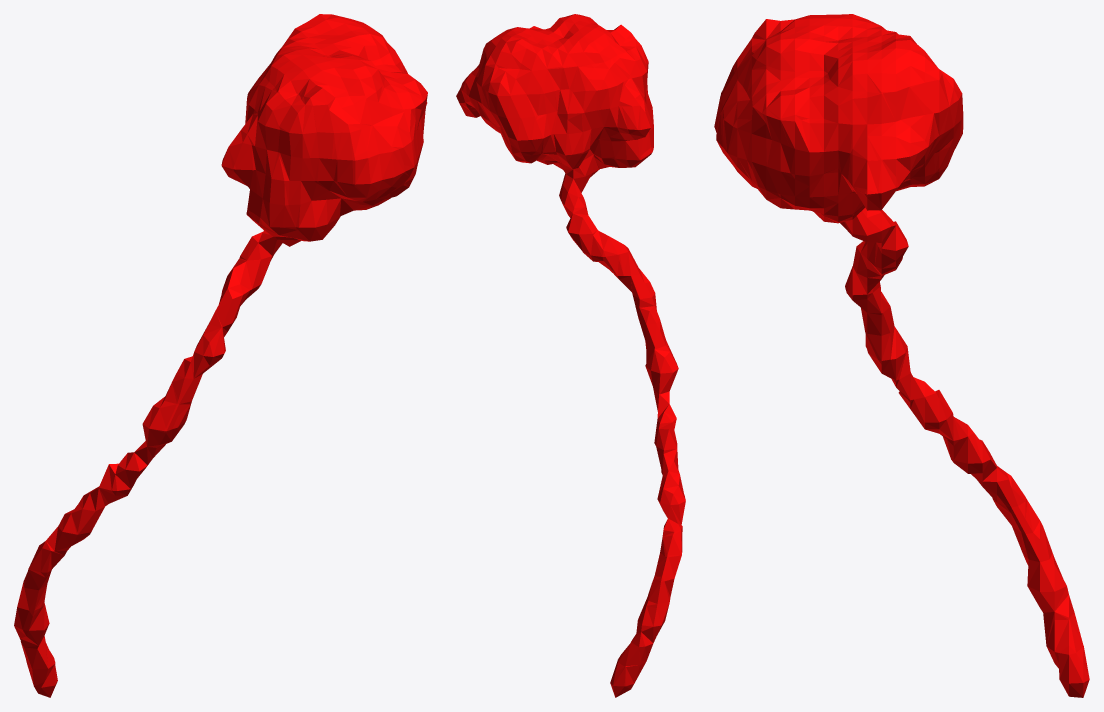
The model's file is gcd_coarse.dae.
3 views of the same model, side by side, from view 1: azimuth 30°, elevation 25°; view 2: azimuth 150°, elevation 25°; view 3: azimuth 270°, elevation 25° (orthographic). The views are drawn at different scales.
Visible parts, largest first — view 1: gcd; view 2: gcd; view 3: gcd.
Part boxes in pixels (left/top/right/bottom): gcd: left=14, top=14, right=427, bottom=697; gcd: left=456, top=14, right=685, bottom=697; gcd: left=714, top=14, right=1089, bottom=697.
Bounding box in the file's own units: 119 × 235 × 105.
